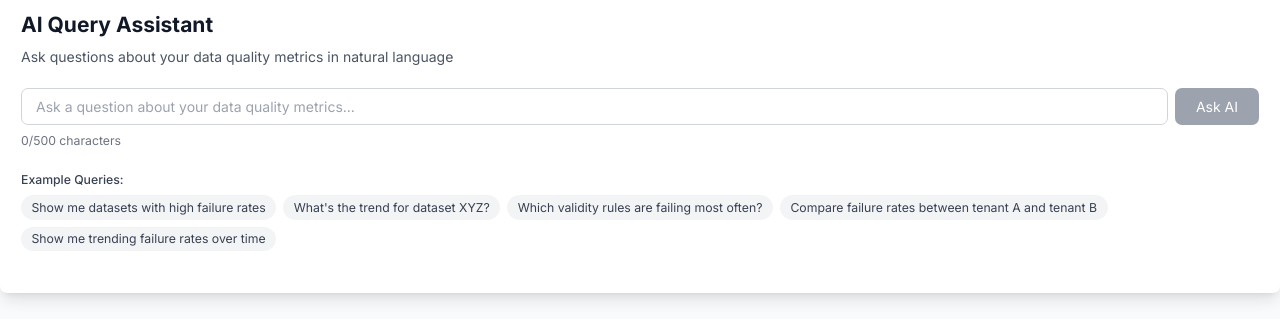
it: AIQuerySection › allows clicking example queries to populate input
The width and height of the screenshot is (1280, 319).
Click the button "Show me datasets with high failure rates". click: (149, 207)
box: x1=21 y1=195 x2=276 y2=220
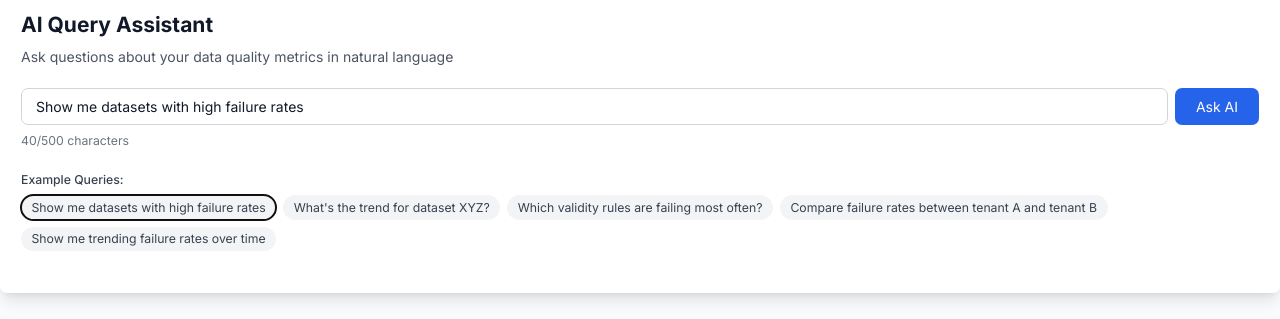
Check: the field with placeholder "Ask a question about your data quality metrics..." holds "Show me datasets with high failure rates", box x1=21 y1=88 x2=1168 y2=125
